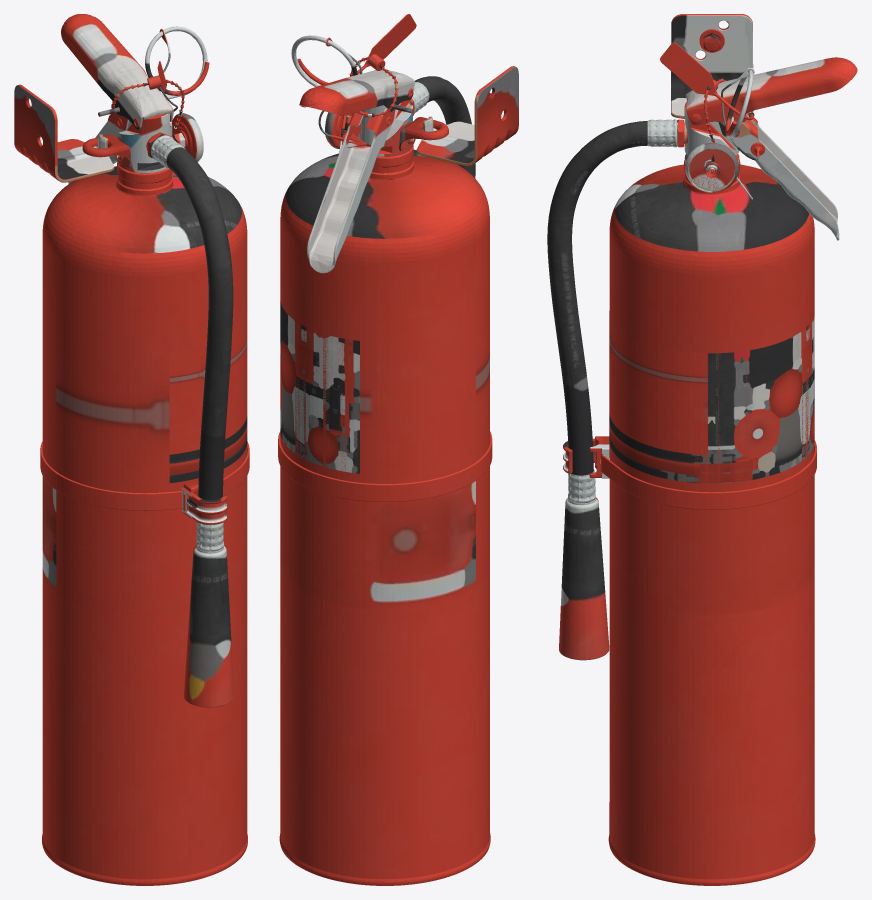
The model's file is extinguisher.glb.
3 renders of one model, left to right at view 1: azimuth 30°, elevation 25°; view 2: azimuth 150°, elevation 25°; view 3: azimuth 270°, elevation 25°, orthographic. The views are drawn at different scales.
Visible parts, largest first — view 1: m0; view 2: m0; view 3: m0.
Part boxes in pixels (bbox=[...]): m0: bbox=[14, 14, 249, 885]; m0: bbox=[278, 14, 518, 885]; m0: bbox=[547, 14, 857, 885].
Size of the model in its own units: 0.1441 by 0.5448 by 0.192.
Materials: 1 (1 with a texture image).
